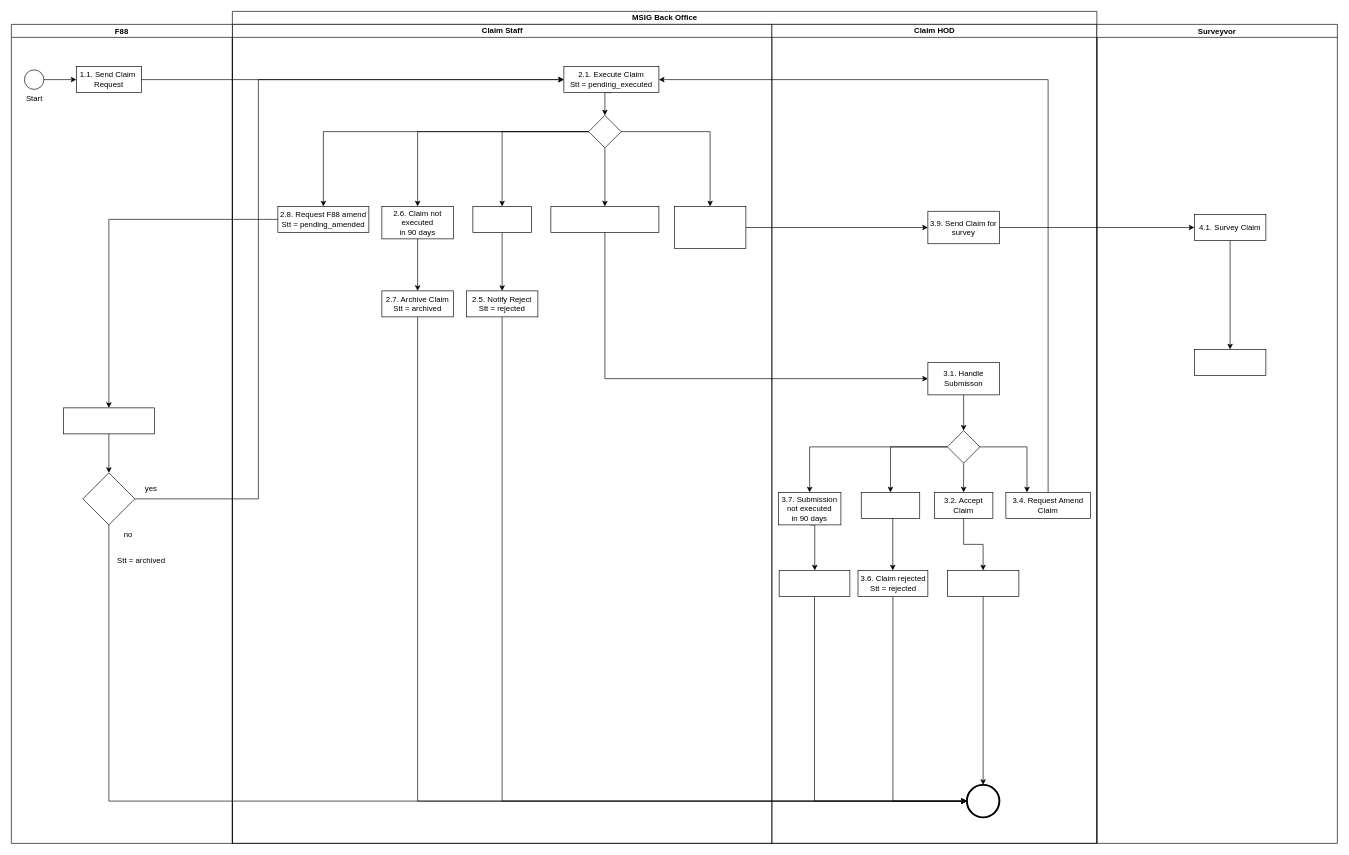
The diagram is 1349 pixels wide and 855 high, and some of its shapes have lost their labels. Each missing label, with the centre of its shape:
"1.2. Handle Amend Request" goes at point (108, 420).
"2.2. Submit Claim for Approval Stt = pending_executed" goes at point (604, 219).
"2.3. Request HOD for Survey flag = wait for survey" goes at point (710, 227).
"2.4. Reject Claim" goes at point (501, 219).
"3.3. Claim issued Stt = issued" goes at point (983, 583).
"3.5. Reject Claim" goes at point (890, 505).
"3.8. Archive Claim Stt = archived" goes at point (814, 583).
"4.2. Survey Done flag = survey done" goes at point (1230, 362).
"Amend in xx days" goes at point (108, 498).
"End" goes at point (982, 800).
